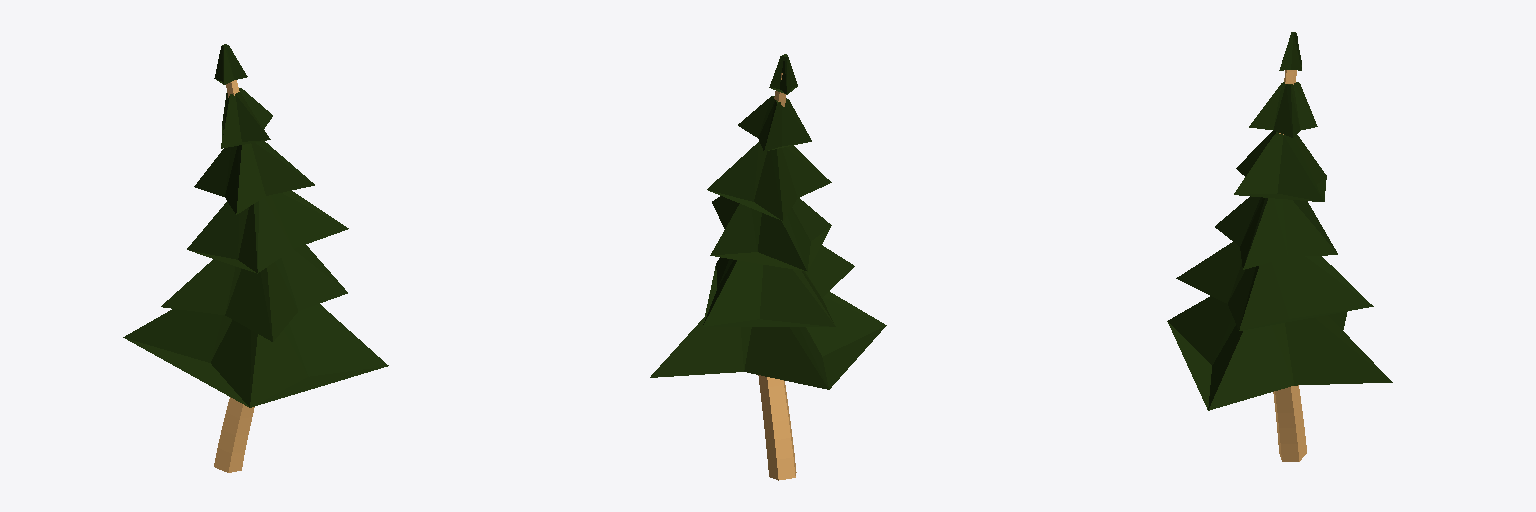
The model's file is spruce.obj.
3 renders of one model, left to right at view 1: azimuth 30°, elevation 25°; view 2: azimuth 150°, elevation 25°; view 3: azimuth 270°, elevation 25°, orthographic.
Visible parts, largest first — view 1: main_spruce.001; view 2: main_spruce.001; view 3: main_spruce.001.
Boxes of the visible parts, box(x1,y1,x2,y2) form: main_spruce.001: box(123, 44, 388, 472); main_spruce.001: box(650, 54, 886, 480); main_spruce.001: box(1167, 32, 1392, 461).
Size of the model in its own units: 2.24 by 4.67 by 2.25.